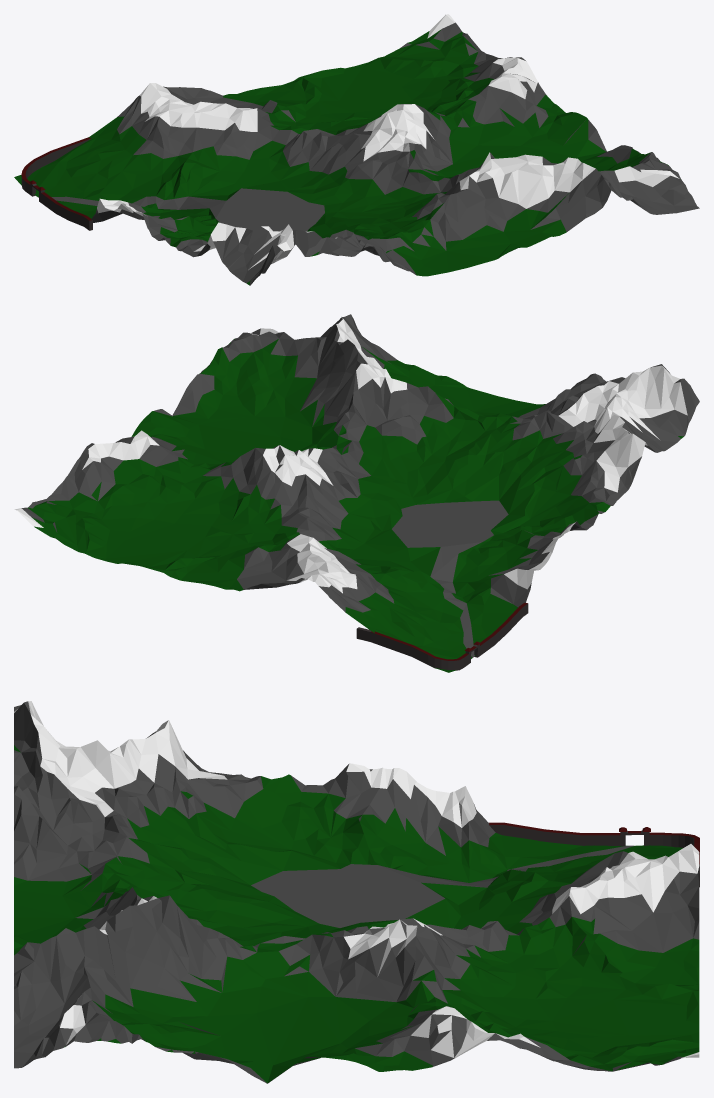
The model's file is World.fbx.
The picture shows the model from 3 angles, top to bottom: view 1: azimuth 30°, elevation 25°; view 2: azimuth 150°, elevation 25°; view 3: azimuth 270°, elevation 25°; orthographic projection. The views are drawn at different scales.
Parts seen in each view (by area): view 1: floor, Cube.001; view 2: floor, Cube.001; view 3: floor, Cube.001.
Boxes of the visible parts, x1=… form: floor: x1=14, y1=14, x2=699, y2=285; Cube.001: x1=21, y1=137, x2=92, y2=230; floor: x1=14, y1=314, x2=699, y2=672; Cube.001: x1=356, y1=602, x2=528, y2=670; floor: x1=14, y1=701, x2=699, y2=1083; Cube.001: x1=489, y1=822, x2=699, y2=887.
Bounding box in the file's own units: 16395 × 4419 × 16301.
